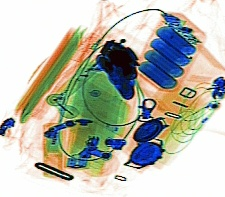powerbank: (133, 11, 206, 92)
